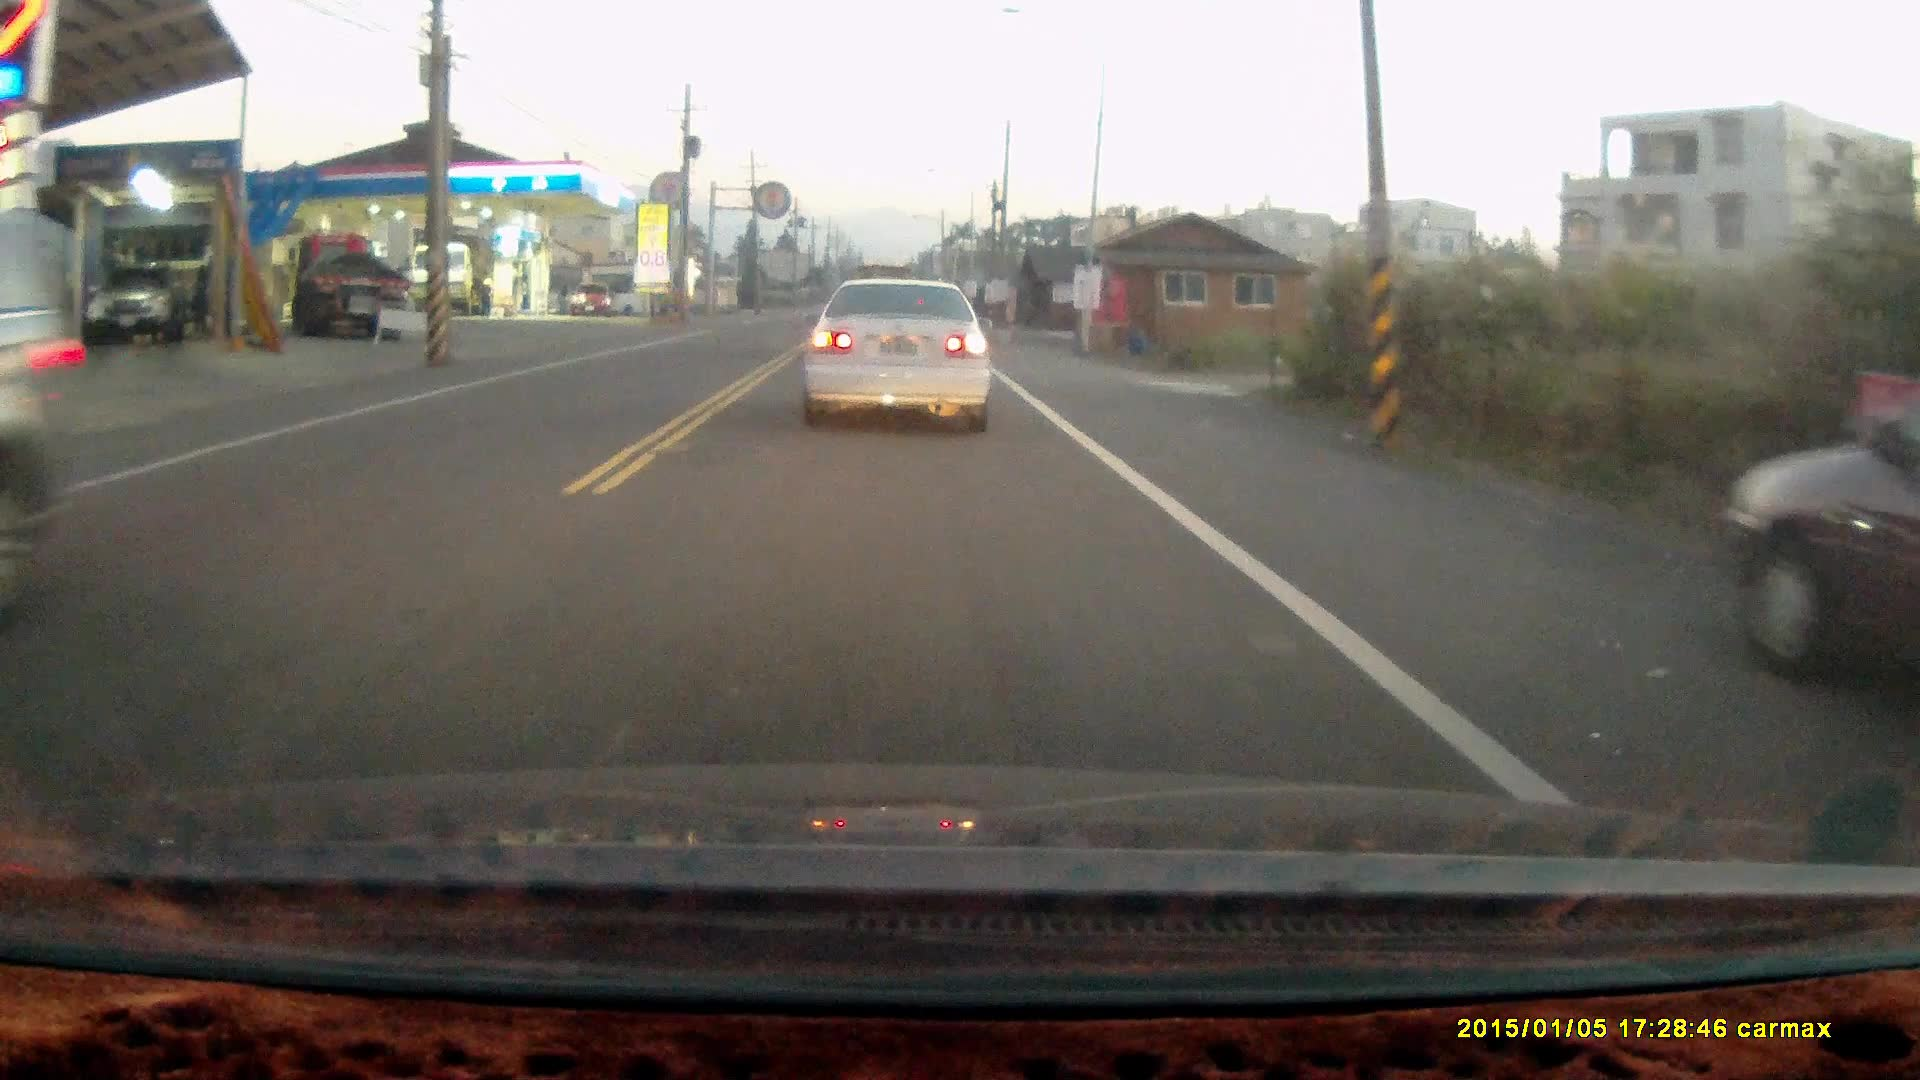pedestrian: (476, 269, 496, 313)
vehicle: (1728, 415, 1920, 727), (1, 204, 90, 618), (795, 285, 995, 446), (288, 239, 412, 348), (402, 236, 490, 321), (572, 285, 614, 319)
